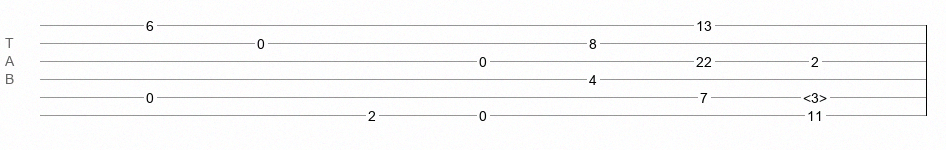0: (146, 90, 154, 100), (257, 36, 265, 46), (479, 108, 487, 118), (479, 54, 487, 64)
11: (807, 108, 823, 118)
13: (696, 18, 712, 28)
2: (368, 108, 376, 118), (811, 54, 819, 64)
22: (696, 54, 712, 64)
4: (589, 72, 597, 82)
6: (146, 18, 154, 28)
7: (700, 90, 708, 100)
8: (589, 36, 597, 46)
harmonic: (803, 90, 827, 100)
